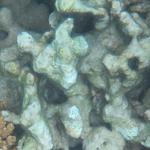dead: (3, 4, 147, 149)
